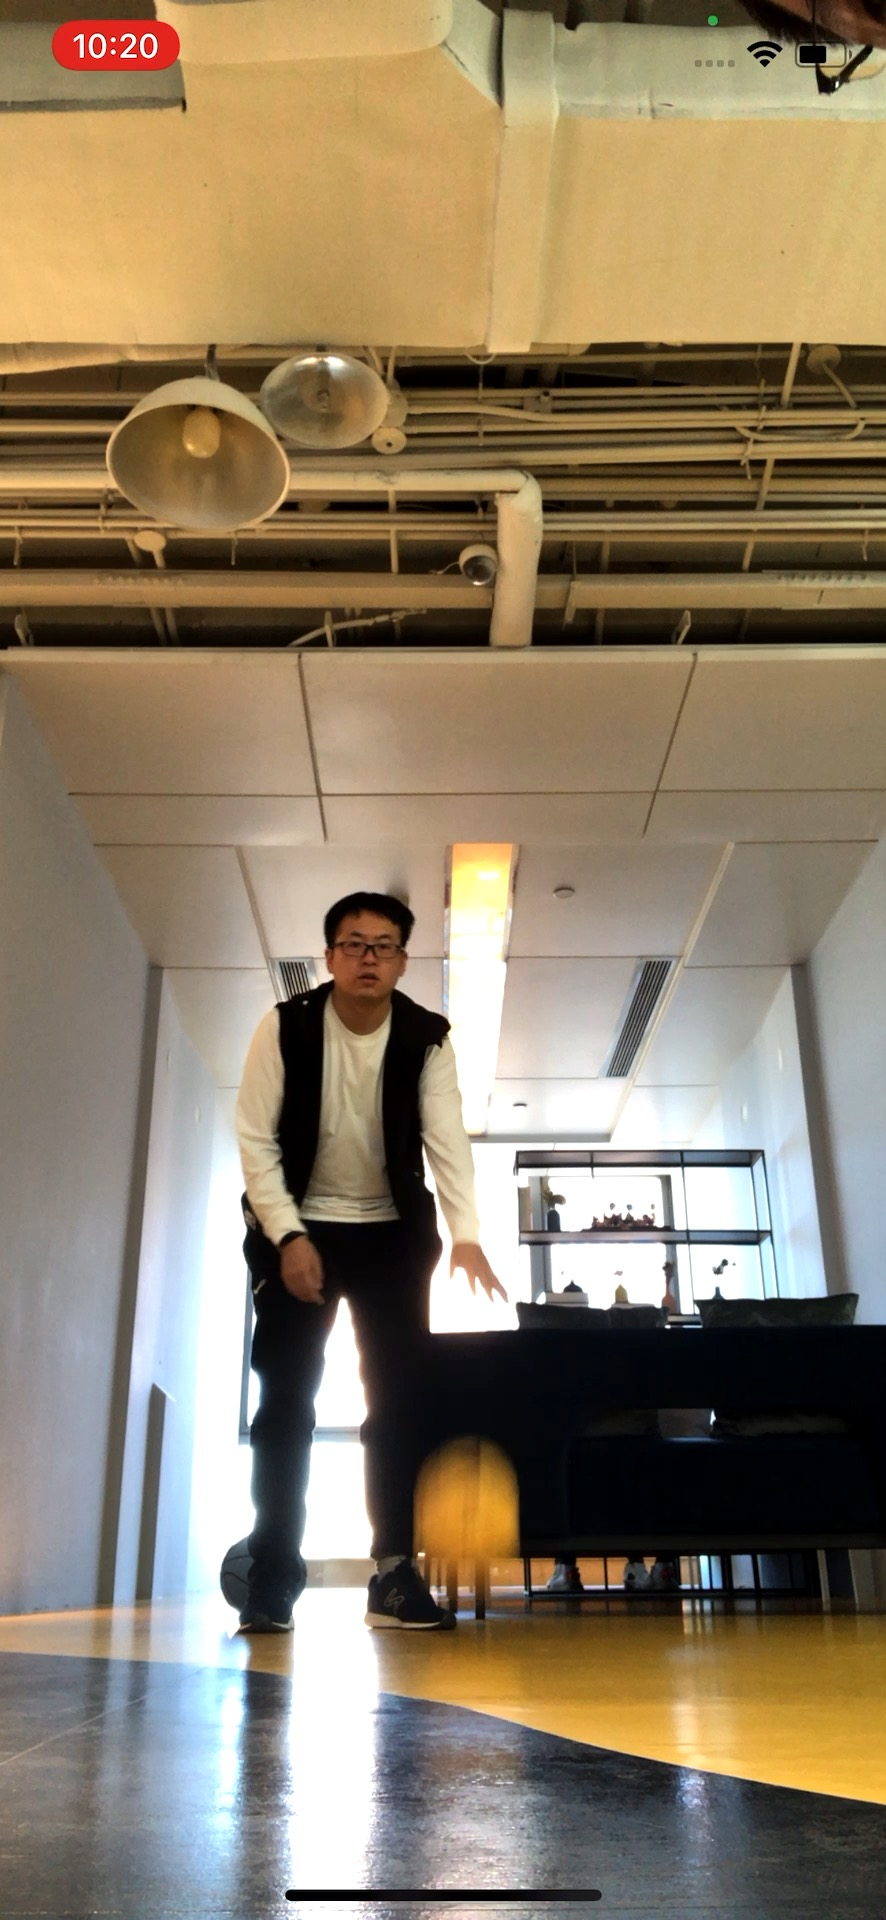ball: (410, 1449, 521, 1596)
